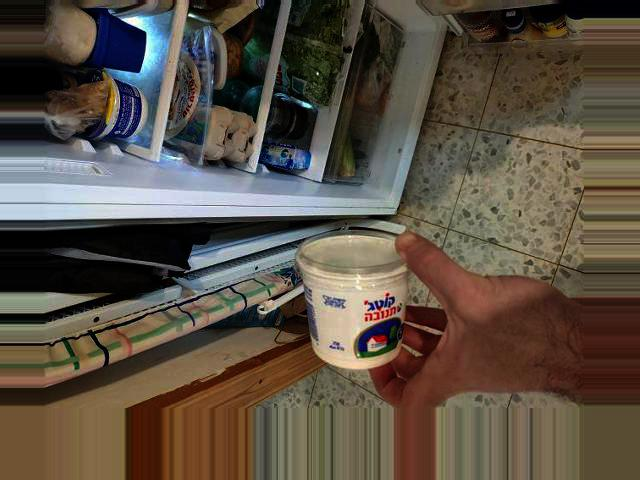cotage: (307, 239, 417, 358)
